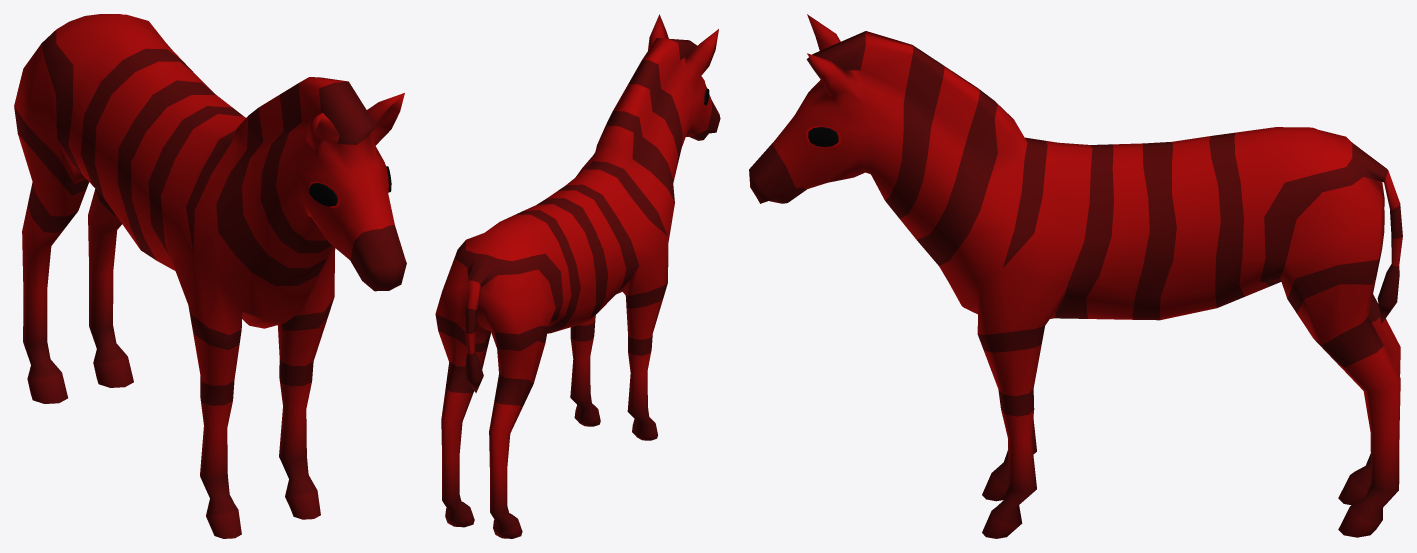
File: Animals_Zebra.fbx
The picture shows the model from 3 angles, left to right: view 1: azimuth 30°, elevation 25°; view 2: azimuth 150°, elevation 25°; view 3: azimuth 270°, elevation 25°; orthographic projection. The views are drawn at different scales.
Visible parts, largest first — view 1: base; view 2: base; view 3: base.
Boxes of the visible parts, left/top/right/bottom form: base: left=14, top=14, right=406, bottom=538; base: left=435, top=14, right=720, bottom=538; base: left=749, top=14, right=1402, bottom=538.
Bounding box in the file's own units: 68.95 × 221 × 272.
